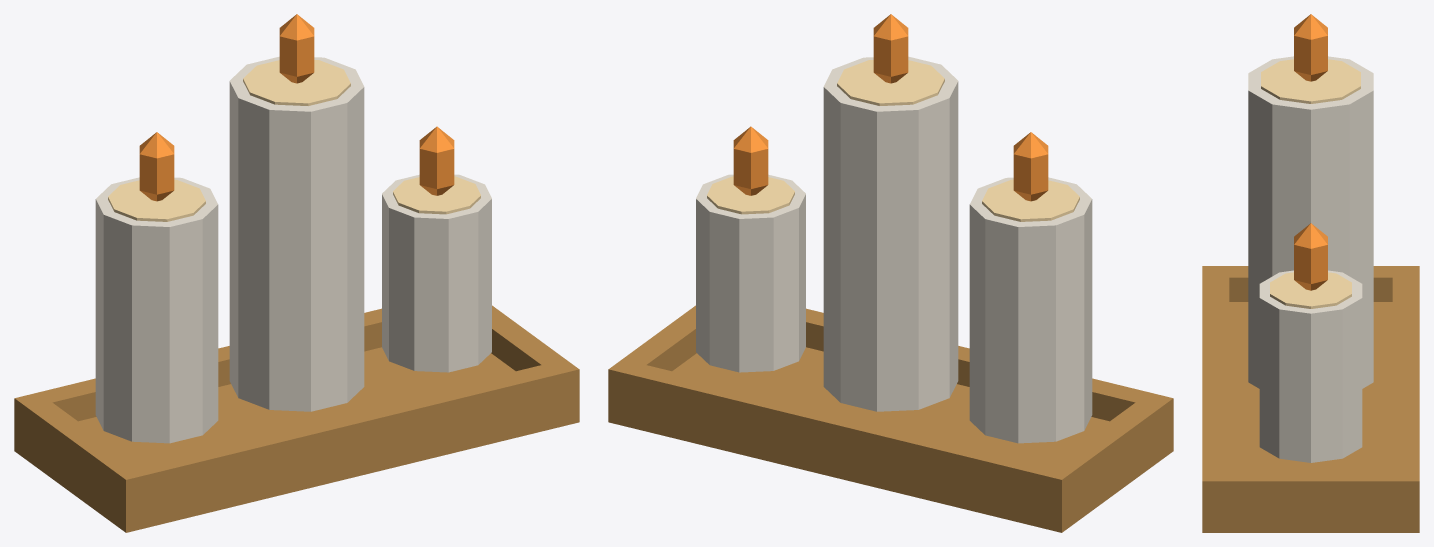
Rendered from SM_LPI_Light_Candle_01.fbx.
3 views of the same model, side by side, from view 1: azimuth 30°, elevation 25°; view 2: azimuth 150°, elevation 25°; view 3: azimuth 270°, elevation 25° (orthographic). The views are drawn at different scales.
Visible parts, largest first — view 1: SM_LPI_Light_Candle_01; view 2: SM_LPI_Light_Candle_01; view 3: SM_LPI_Light_Candle_01.
Boxes of the visible parts, bbox=[...] form: SM_LPI_Light_Candle_01: bbox=[14, 14, 579, 532]; SM_LPI_Light_Candle_01: bbox=[608, 14, 1173, 532]; SM_LPI_Light_Candle_01: bbox=[1202, 14, 1419, 532].
Bounding box in the file's own units: 0.34 × 0.303 × 0.145.
